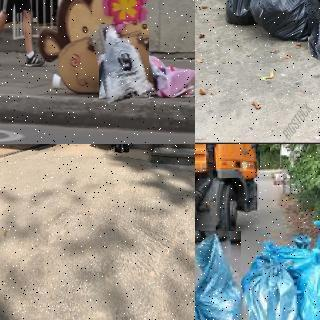Garbage: (234, 250, 305, 320), (95, 22, 153, 103), (195, 229, 246, 320), (250, 0, 315, 40), (296, 260, 320, 320), (225, 0, 271, 25), (114, 144, 123, 152), (122, 144, 129, 152)
